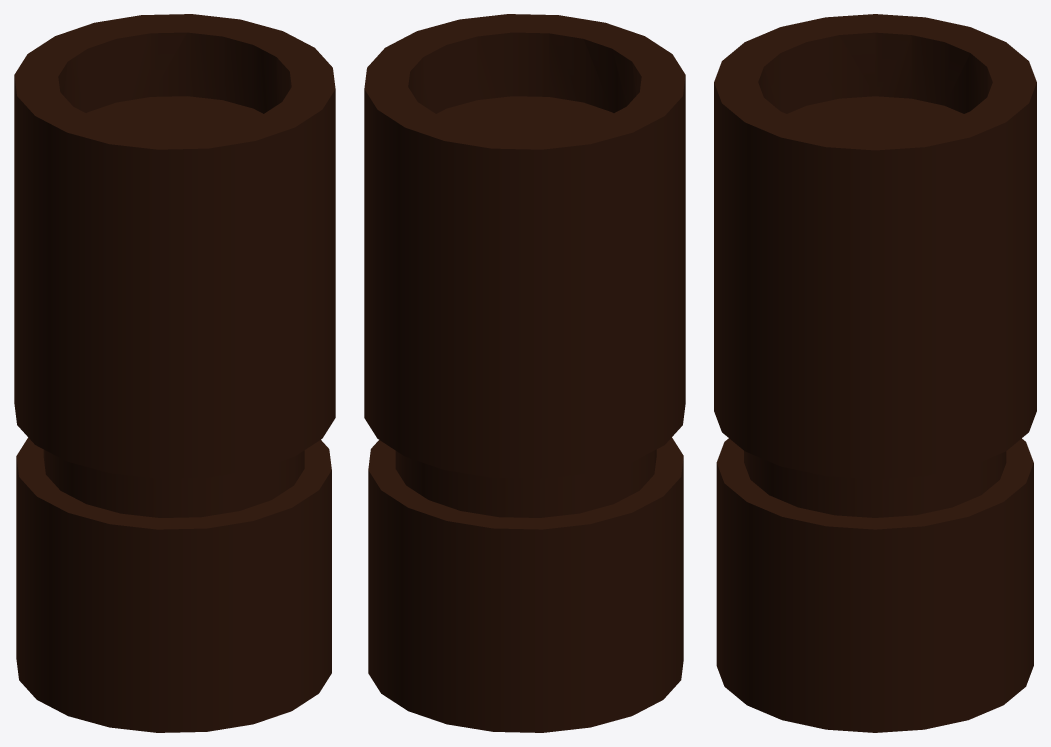
3 renders of one model, left to right at view 1: azimuth 30°, elevation 25°; view 2: azimuth 150°, elevation 25°; view 3: azimuth 270°, elevation 25°, orthographic.
Visible parts, largest first — view 1: 丸2凹_茶; view 2: 丸2凹_茶; view 3: 丸2凹_茶.
Part boxes in pixels (x1,y1,x2,y2): 丸2凹_茶: [14, 14, 335, 732]; 丸2凹_茶: [364, 14, 685, 732]; 丸2凹_茶: [714, 14, 1036, 732].
Bounding box in the file's own units: 0.0261 × 0.0522 × 0.0261.
